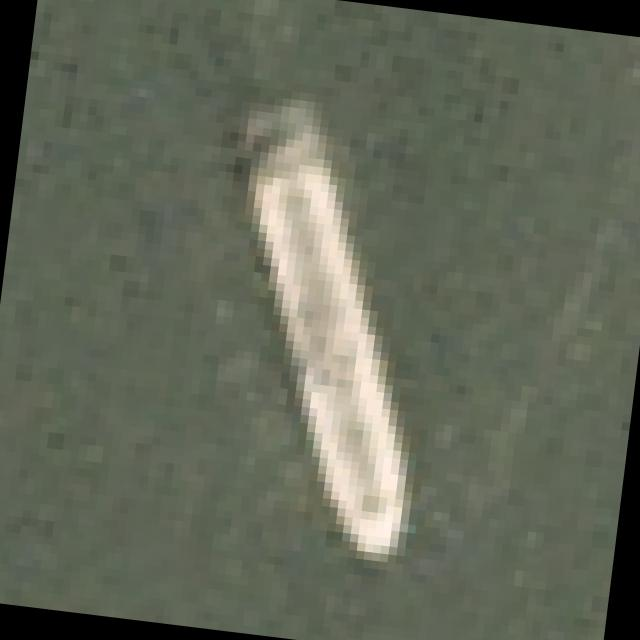ship: (172, 77, 514, 588)
